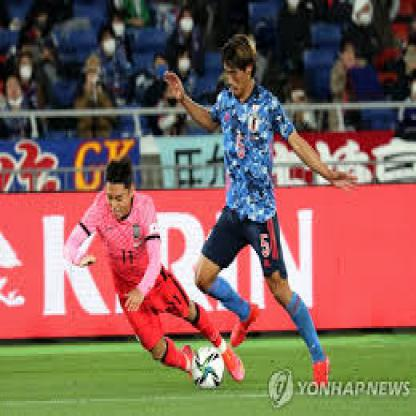Fall_Down: (60, 156, 248, 384)
